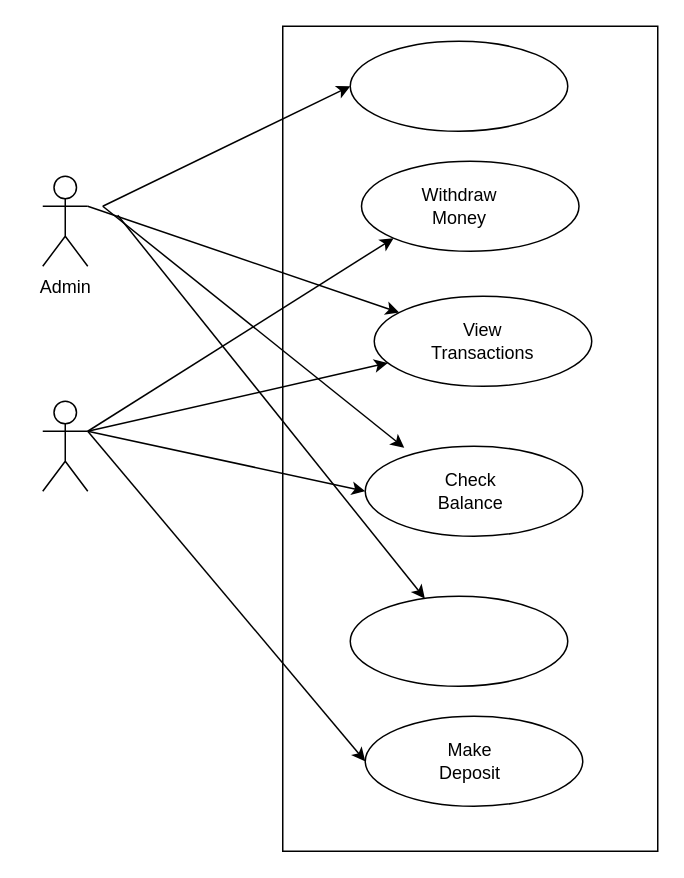
Some shapes in this 684 by 878 pixel diagram are drawn without their labels. Each missing label, with the centre of its shape:
Customer: (x=64, y=445)
Export PDF: (x=458, y=640)
Get Notifications: (x=458, y=85)
